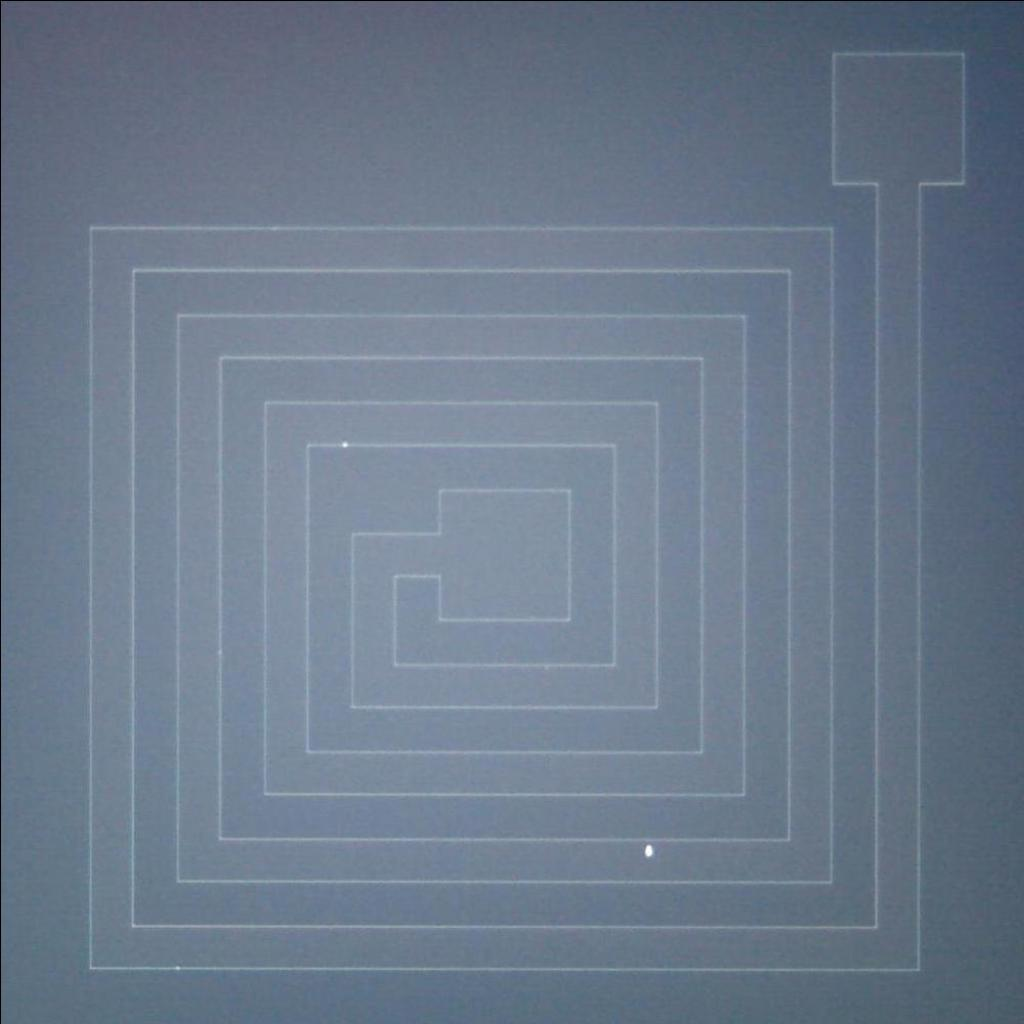dot: (326, 426, 360, 456)
spot: (633, 836, 662, 862)
